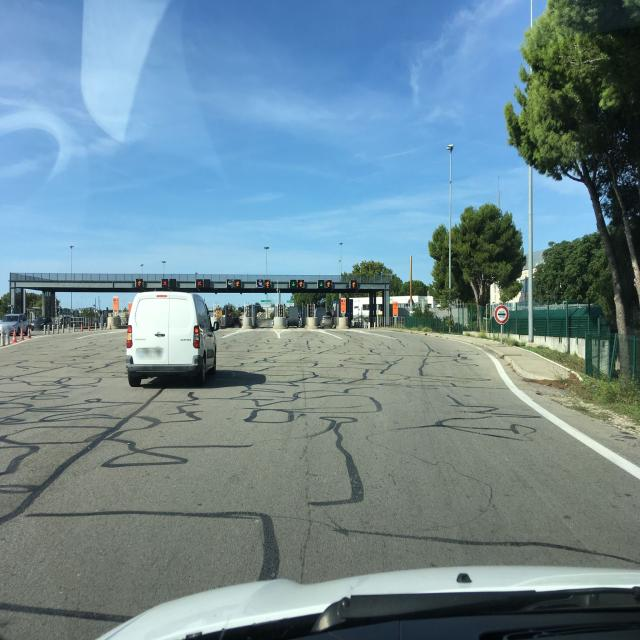car: (125, 289, 217, 387), (2, 313, 30, 336), (286, 305, 304, 329), (316, 310, 337, 329)
